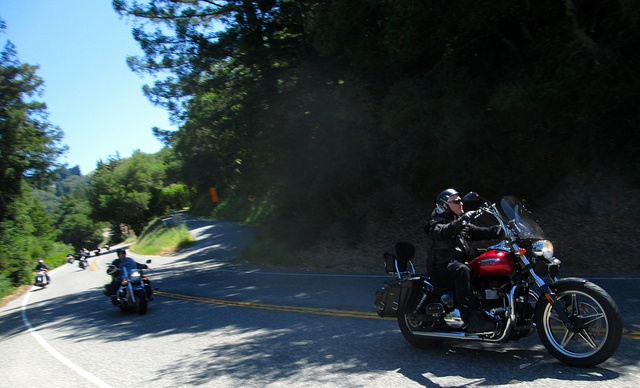non-vehicle: (374, 183, 628, 364), (109, 257, 154, 314), (33, 269, 48, 289), (71, 253, 80, 259), (68, 258, 74, 264), (81, 261, 85, 269), (94, 249, 99, 255), (84, 250, 89, 254)
